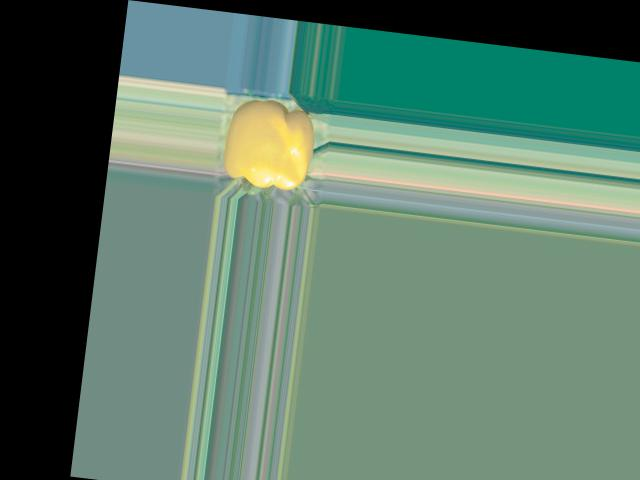bell_pepper: (214, 94, 325, 202)
